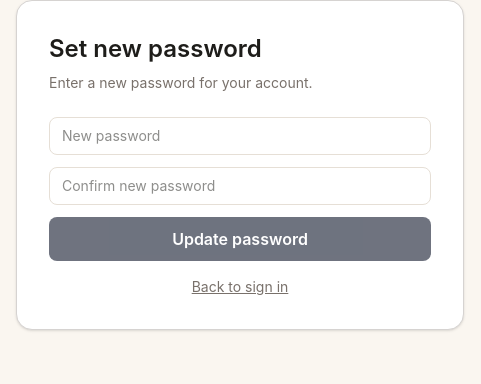
reset-password confirmation (focused) › shows error on API failure
This screenshot has width=481, height=384.
Type "new" into the password field with placeholder "New password".
click(240, 136); type("new")  # box x1=49 y1=117 x2=431 y2=155
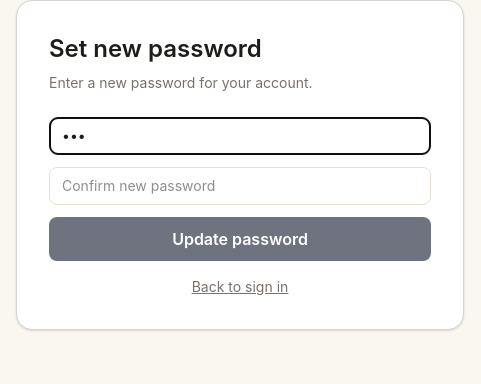
Type "new" into the password field with placeholder "Confirm new password".
click(240, 186); type("new")  # box x1=49 y1=167 x2=431 y2=205
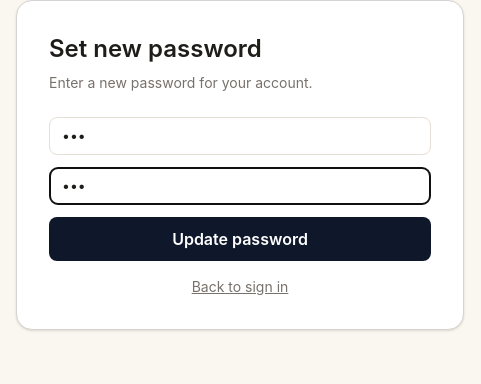
Click the button "Update password".
click(240, 239)  # box x1=49 y1=217 x2=431 y2=261
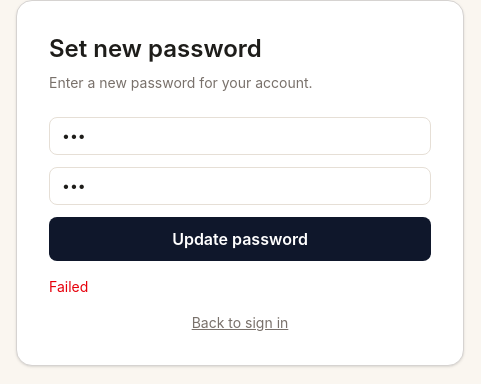
Expected: the text "Failed" is shown, x1=49 y1=278 x2=88 y2=295
